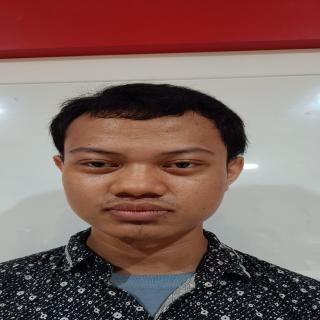Sedih: (51, 108, 239, 248)
